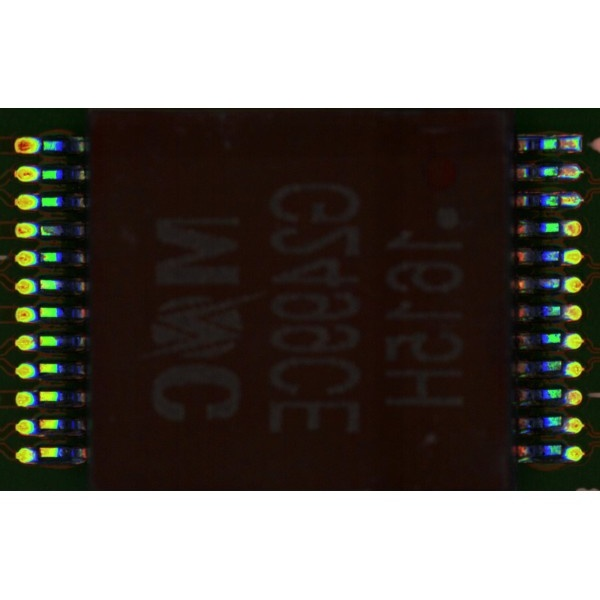Bad_podu: (552, 139, 572, 149), (553, 196, 571, 204), (553, 168, 571, 176)
